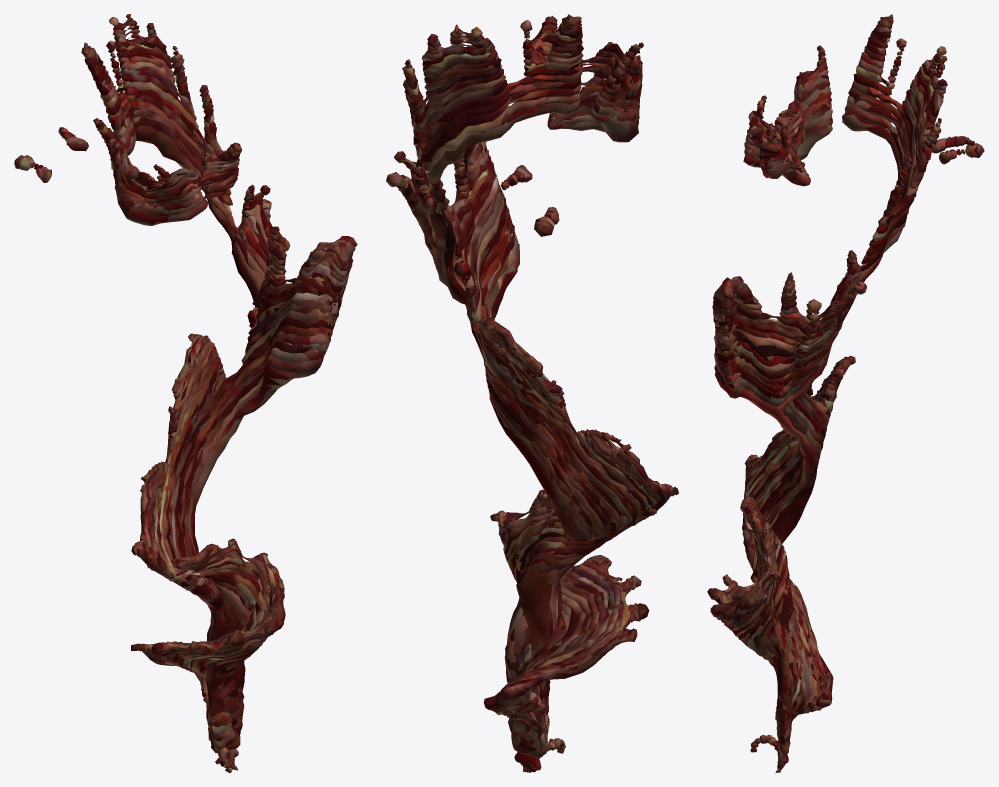
File: Blood_06.fbx
3 renders of one model, left to right at view 1: azimuth 30°, elevation 25°; view 2: azimuth 150°, elevation 25°; view 3: azimuth 270°, elevation 25°, orthographic. The views are drawn at different scales.
Parts seen in each view (by area): view 1: LOD_1_Group_0_Sub_1__lambert2, LOD_1_Group_5_Sub_1__lambert2, LOD_1_Group_3_Sub_1__lambert2, LOD_1_Group_1_Sub_1__lambert2, LOD_1_Group_4_Sub_1__lambert2, LOD_1_Group_2_Sub_1__lambert2, LOD_1_Group_6_Sub_1__lambert2, LOD_1_Group_10_Sub_1__lambert2, LOD_1_Group_8_Sub_1__lambert2, LOD_1_Group_7_Sub_1__lambert2, LOD_1_Group_9_Sub_1__lambert2, LOD_1_Group_12_Sub_1__lambert2 (+13 smaller); view 2: LOD_1_Group_0_Sub_1__lambert2, LOD_1_Group_1_Sub_1__lambert2, LOD_1_Group_2_Sub_1__lambert2, LOD_1_Group_3_Sub_1__lambert2, LOD_1_Group_7_Sub_1__lambert2, LOD_1_Group_5_Sub_1__lambert2, LOD_1_Group_4_Sub_1__lambert2, LOD_1_Group_6_Sub_1__lambert2, LOD_1_Group_8_Sub_1__lambert2, LOD_1_Group_10_Sub_1__lambert2, LOD_1_Group_9_Sub_1__lambert2, LOD_1_Group_11_Sub_1__lambert2 (+13 smaller); view 3: LOD_1_Group_0_Sub_1__lambert2, LOD_1_Group_2_Sub_1__lambert2, LOD_1_Group_1_Sub_1__lambert2, LOD_1_Group_3_Sub_1__lambert2, LOD_1_Group_4_Sub_1__lambert2, LOD_1_Group_5_Sub_1__lambert2, LOD_1_Group_6_Sub_1__lambert2, LOD_1_Group_8_Sub_1__lambert2, LOD_1_Group_7_Sub_1__lambert2, LOD_1_Group_10_Sub_1__lambert2, LOD_1_Group_9_Sub_1__lambert2, LOD_1_Group_11_Sub_1__lambert2 (+13 smaller).
Boxes of the visible parts, box(x1,y1,x2,y2) form: LOD_1_Group_0_Sub_1__lambert2: box(40, 125, 322, 694); LOD_1_Group_5_Sub_1__lambert2: box(29, 87, 335, 715); LOD_1_Group_3_Sub_1__lambert2: box(34, 101, 330, 705); LOD_1_Group_1_Sub_1__lambert2: box(40, 116, 324, 698); LOD_1_Group_4_Sub_1__lambert2: box(31, 94, 332, 716); LOD_1_Group_2_Sub_1__lambert2: box(35, 108, 329, 701); LOD_1_Group_6_Sub_1__lambert2: box(19, 81, 336, 724); LOD_1_Group_10_Sub_1__lambert2: box(60, 54, 343, 752); LOD_1_Group_8_Sub_1__lambert2: box(60, 68, 339, 731); LOD_1_Group_7_Sub_1__lambert2: box(14, 73, 338, 731); LOD_1_Group_9_Sub_1__lambert2: box(60, 61, 342, 742); LOD_1_Group_12_Sub_1__lambert2: box(58, 43, 346, 764); LOD_1_Group_0_Sub_1__lambert2: box(426, 78, 638, 687); LOD_1_Group_1_Sub_1__lambert2: box(423, 62, 638, 690); LOD_1_Group_2_Sub_1__lambert2: box(422, 56, 639, 683); LOD_1_Group_3_Sub_1__lambert2: box(420, 53, 639, 699); LOD_1_Group_7_Sub_1__lambert2: box(412, 38, 639, 729); LOD_1_Group_5_Sub_1__lambert2: box(415, 46, 639, 709); LOD_1_Group_4_Sub_1__lambert2: box(417, 49, 639, 715); LOD_1_Group_6_Sub_1__lambert2: box(414, 44, 642, 722); LOD_1_Group_8_Sub_1__lambert2: box(410, 32, 642, 732); LOD_1_Group_10_Sub_1__lambert2: box(407, 28, 641, 758); LOD_1_Group_9_Sub_1__lambert2: box(408, 29, 642, 746); LOD_1_Group_11_Sub_1__lambert2: box(406, 25, 642, 751); LOD_1_Group_0_Sub_1__lambert2: box(715, 112, 950, 697); LOD_1_Group_2_Sub_1__lambert2: box(714, 95, 957, 706); LOD_1_Group_1_Sub_1__lambert2: box(714, 104, 952, 701); LOD_1_Group_3_Sub_1__lambert2: box(714, 88, 961, 710); LOD_1_Group_4_Sub_1__lambert2: box(715, 81, 964, 720); LOD_1_Group_5_Sub_1__lambert2: box(715, 73, 966, 725); LOD_1_Group_6_Sub_1__lambert2: box(714, 65, 977, 731); LOD_1_Group_8_Sub_1__lambert2: box(715, 52, 966, 741); LOD_1_Group_7_Sub_1__lambert2: box(717, 59, 984, 736); LOD_1_Group_10_Sub_1__lambert2: box(716, 41, 969, 754); LOD_1_Group_9_Sub_1__lambert2: box(714, 46, 968, 745); LOD_1_Group_11_Sub_1__lambert2: box(715, 37, 971, 746).
Bounding box in the file's own units: 0.0254 × 0.0793 × 0.028.
